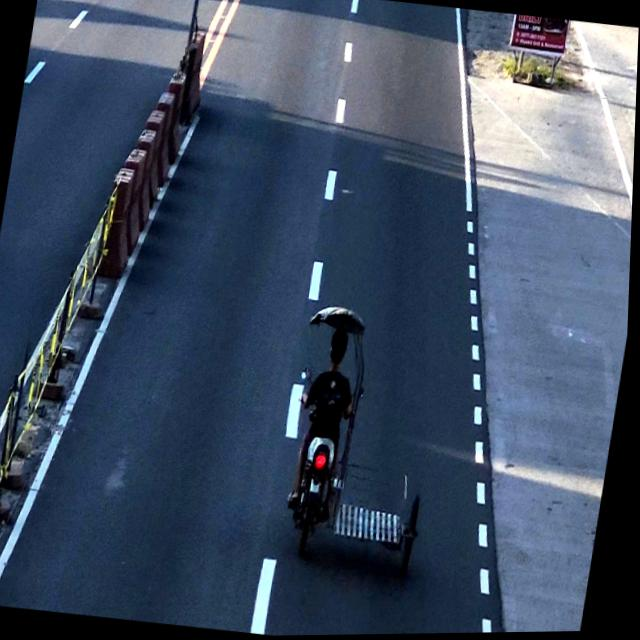Tricycle: (271, 303, 461, 585)
